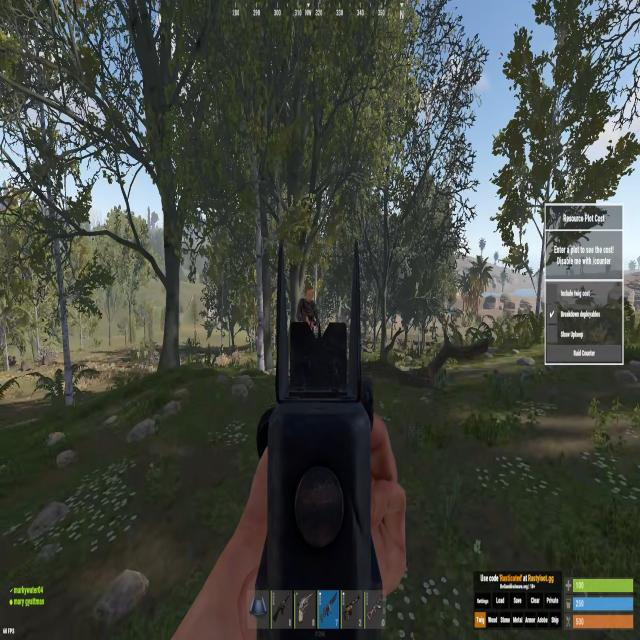Player: (296, 281, 319, 321)
